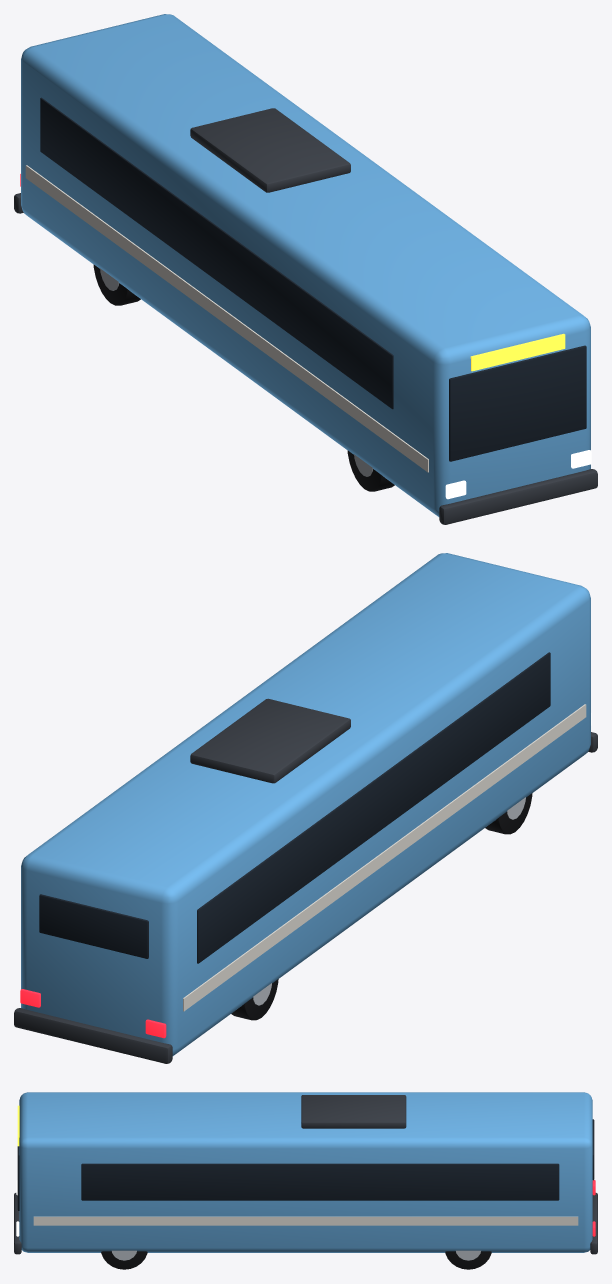
Rendered from roadsterRushBus.glb.
3 views of the same model, one above another, from view 1: azimuth 30°, elevation 25°; view 2: azimuth 150°, elevation 25°; view 3: azimuth 270°, elevation 25° (orthographic). The views are drawn at different scales.
Visible parts, largest first — view 1: bus; view 2: bus; view 3: bus.
Boxes of the visible parts, left/top/right/bottom form: bus: left=14, top=14, right=597, bottom=524; bus: left=14, top=553, right=597, bottom=1063; bus: left=14, top=1092, right=597, bottom=1269.
Bounding box in the file's own units: 2.6 × 3.16 × 12.22.
